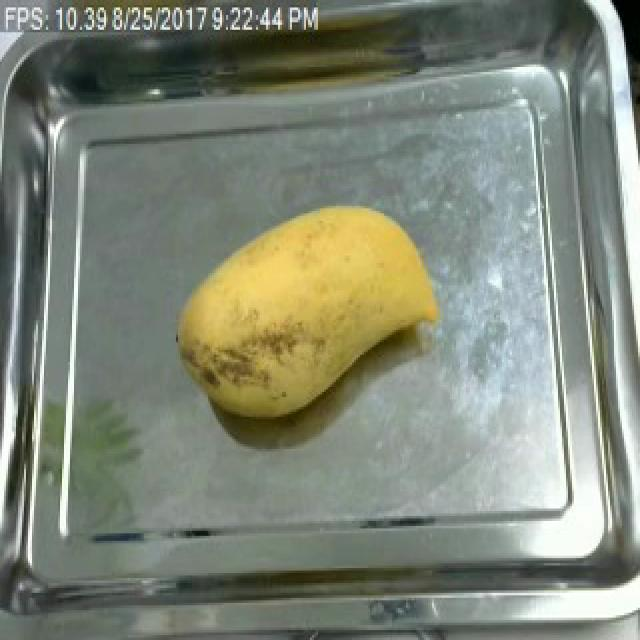fruit: (160, 189, 454, 434)
